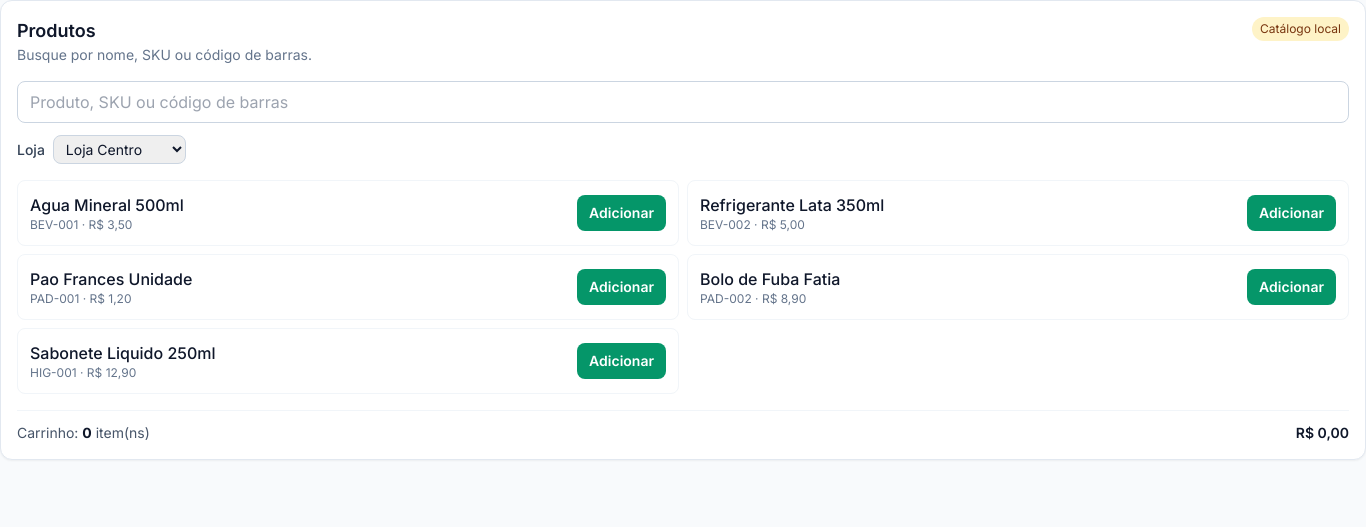
Test: reconstructed product feature › does not silently move an open cart to another store
This screenshot has width=1366, height=527.
expect the text "Agua Mineral 500ml" is shown: met, box [30,193,184,217]
Click the button "Adicionar" in the row of "Agua Mineral 500ml". click: click(622, 213)
box: [577,195,666,231]
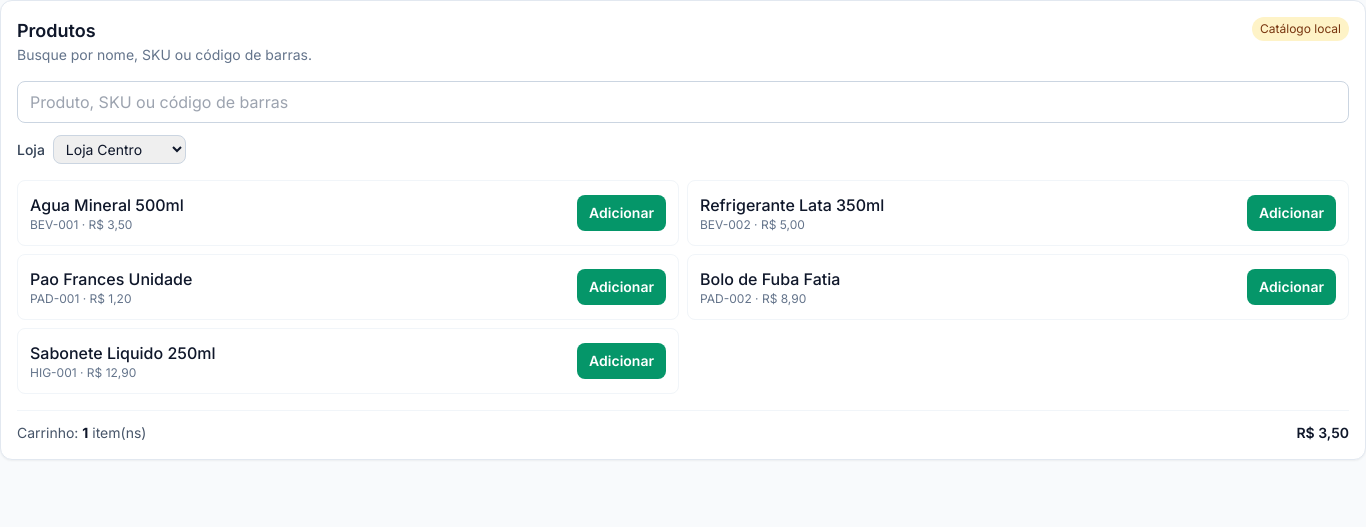
Select "Loja Shopping" in the dropdown with test id "feature-store". click: (119, 150)
box: [53,135,186,164]
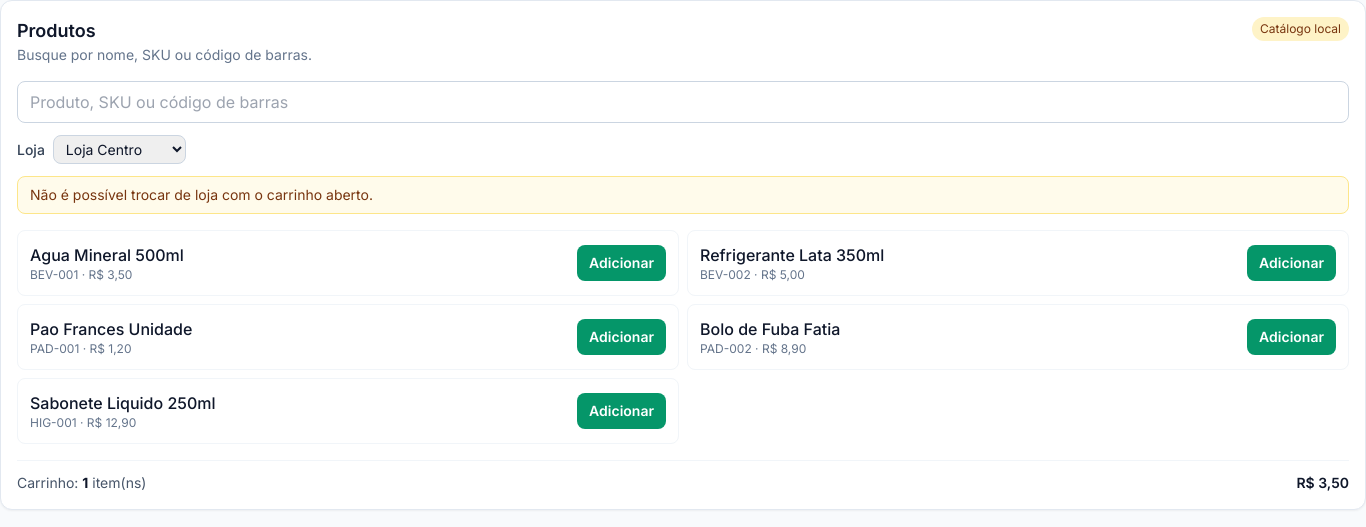
expect the text with test id "feature-store-message" shows "carrinho aberto": met, box [30,186,373,203]
